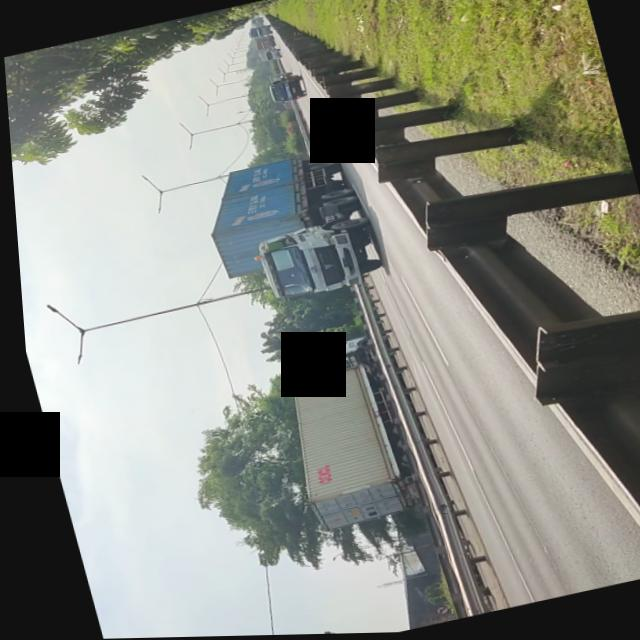Golongan V: (211, 144, 383, 310)
